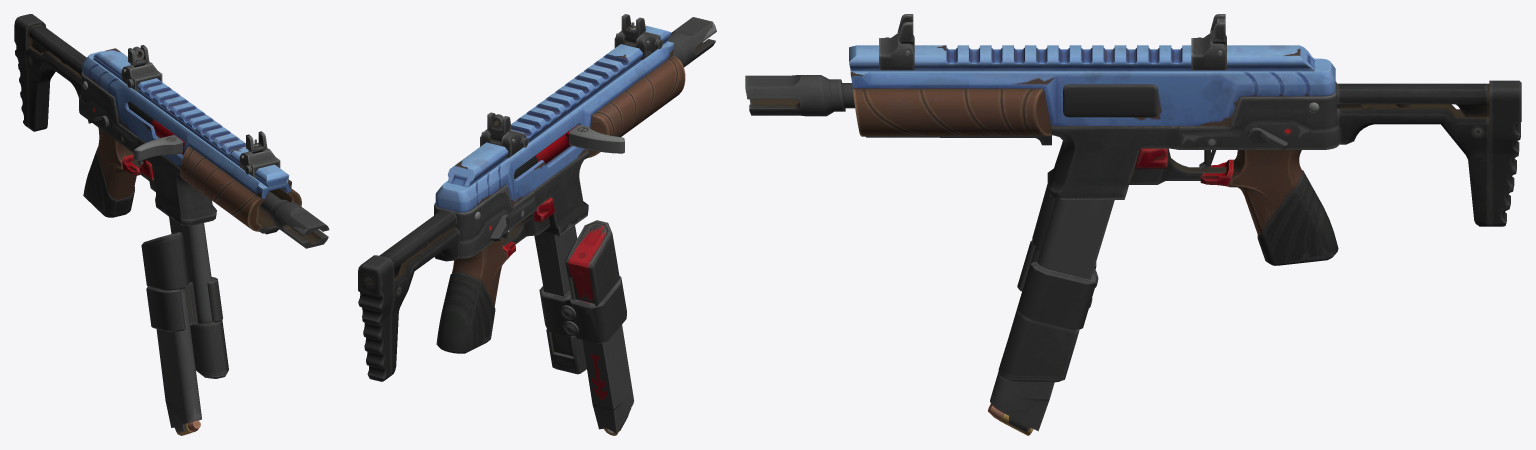
File: Subfusil.glb
3 renders of one model, left to right at view 1: azimuth 30°, elevation 25°; view 2: azimuth 150°, elevation 25°; view 3: azimuth 270°, elevation 25°, orthographic. The views are drawn at different scales.
Parts seen in each view (by area): view 1: Core_S23_Quick_Mag_SMG_LOD0; view 2: Core_S23_Quick_Mag_SMG_LOD0; view 3: Core_S23_Quick_Mag_SMG_LOD0.
Part boxes in pixels (x1,y1,x2,y2): Core_S23_Quick_Mag_SMG_LOD0: (14,14,329,435); Core_S23_Quick_Mag_SMG_LOD0: (358,14,716,435); Core_S23_Quick_Mag_SMG_LOD0: (745,14,1521,435).
Size of the model in its own units: 0.1127 by 0.4183 by 0.679.
Materials: 1 (1 with a texture image).
